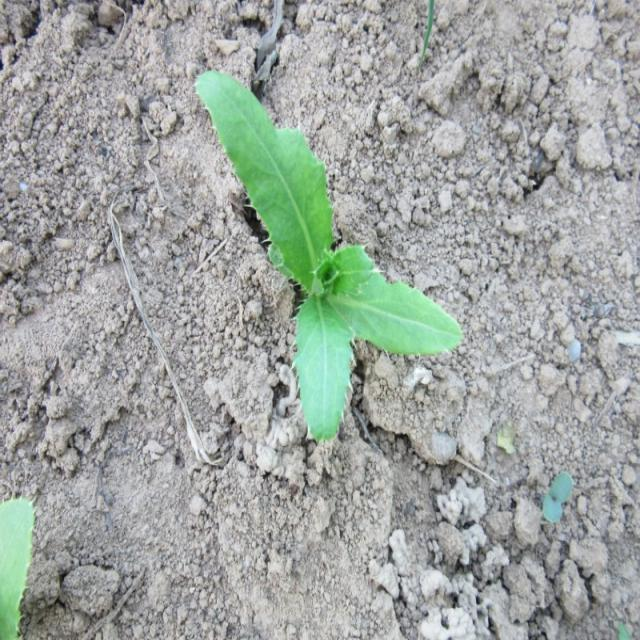cs: (194, 68, 464, 442)
